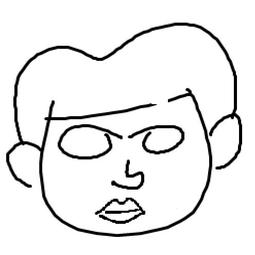cupid_mouth: (95, 195, 145, 227)
ear: (198, 115, 245, 173), (3, 140, 44, 193)
empty_eye: (52, 121, 115, 165), (136, 125, 188, 160)
nose: (108, 159, 152, 195)
